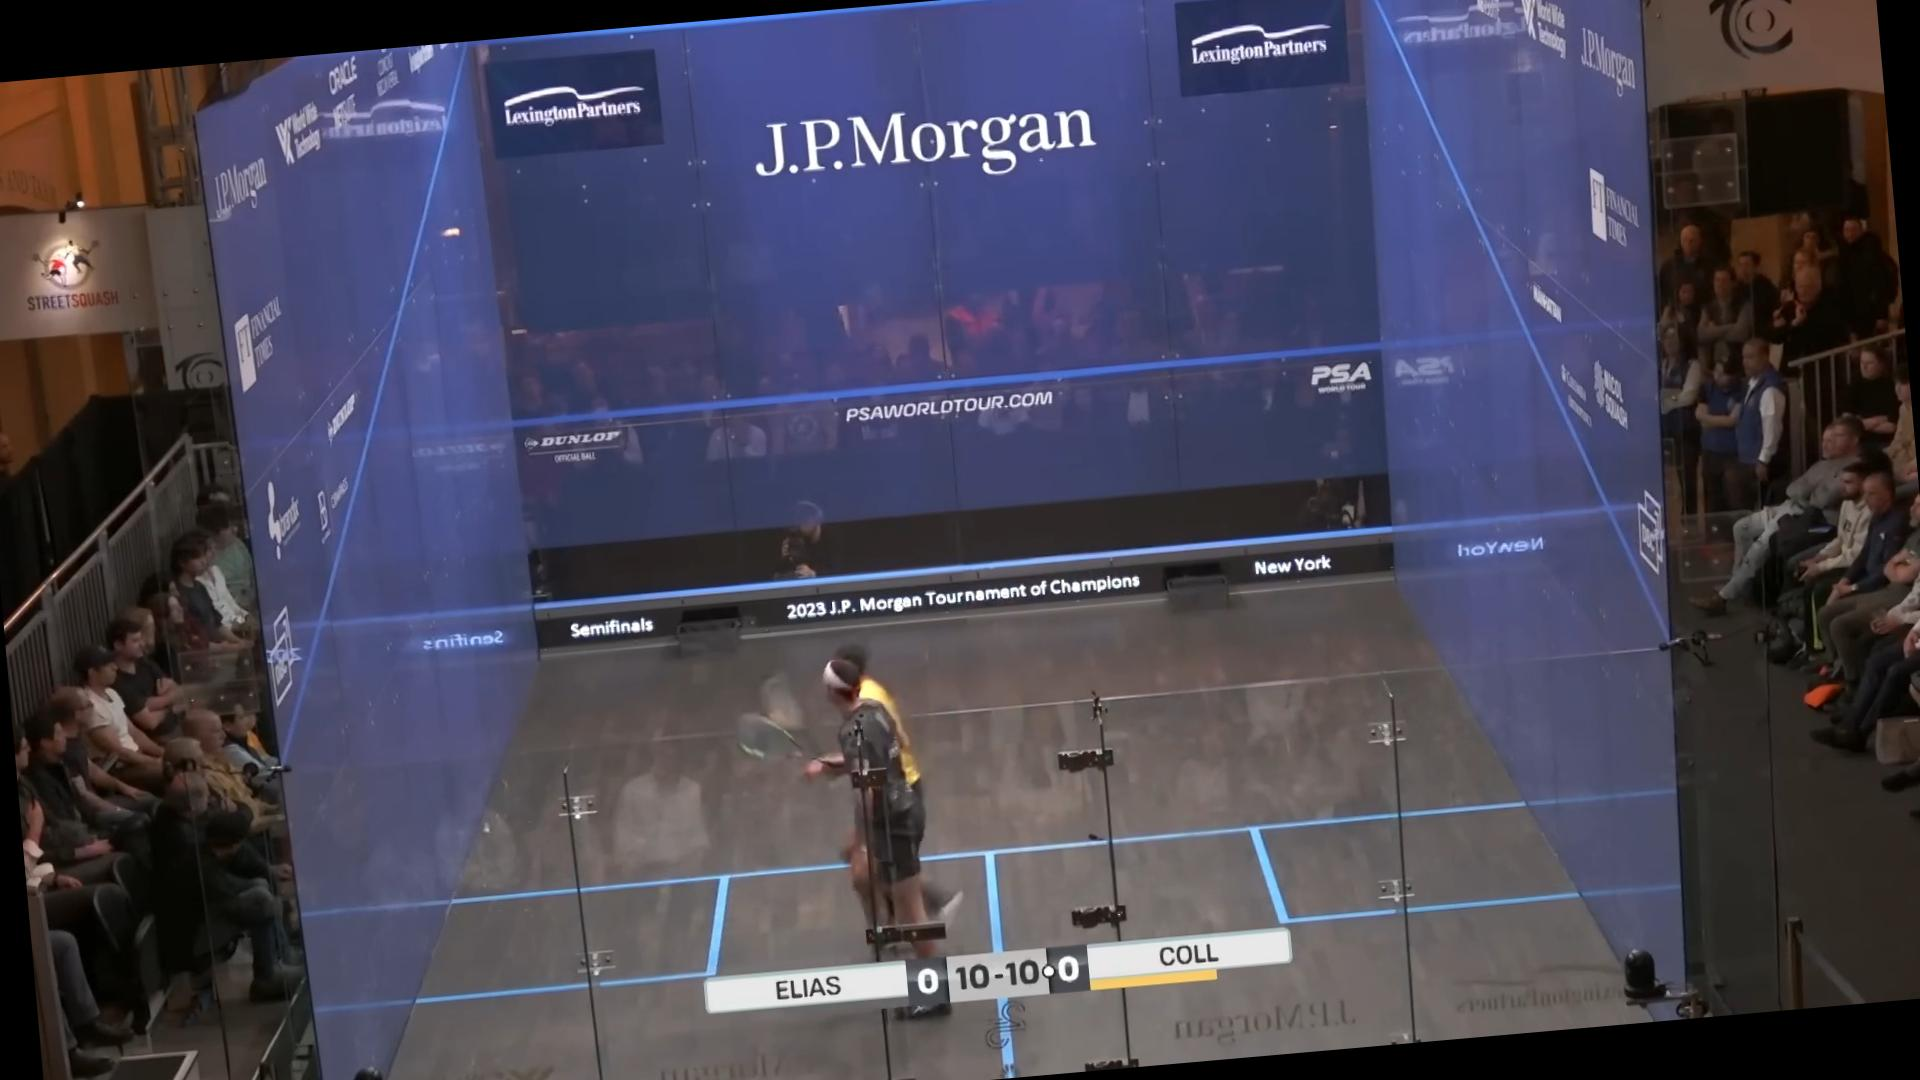Racket: (723, 700, 819, 779)
